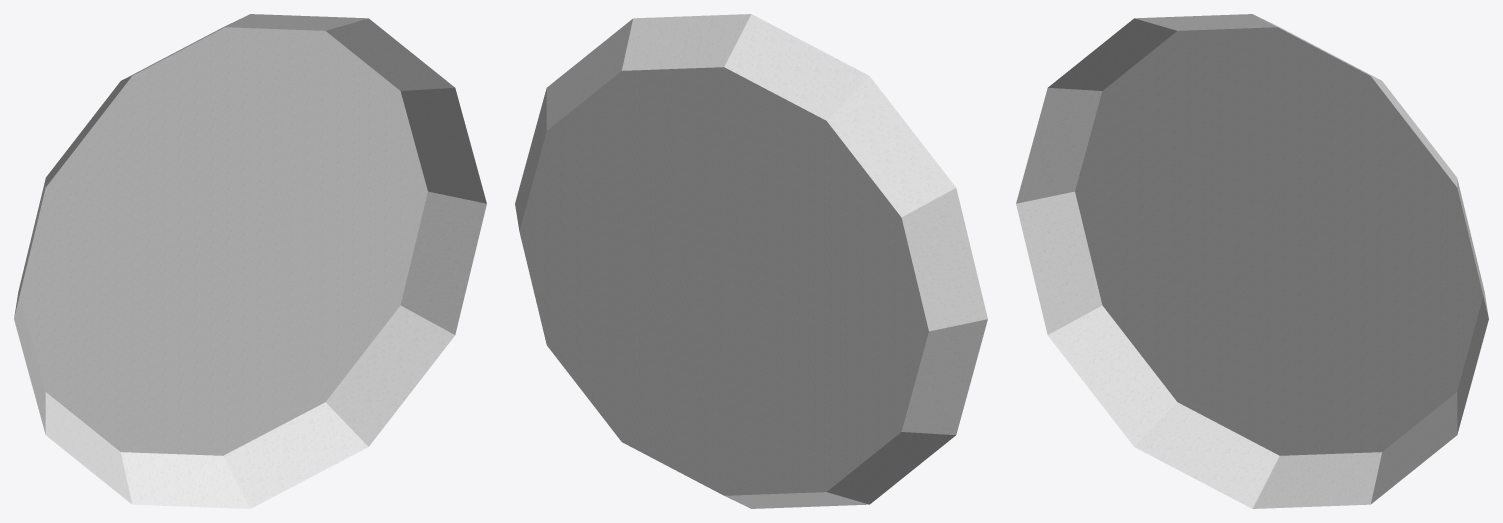
File: land_w_snow.obj
The picture shows the model from 3 angles, left to right: view 1: azimuth 30°, elevation 25°; view 2: azimuth 150°, elevation 25°; view 3: azimuth 330°, elevation 25°; orthographic projection.
Parts seen in each view (by area): view 1: 1_-_Default; view 2: 1_-_Default; view 3: 1_-_Default.
Boxes of the visible parts, x1,y1,x2,y2 form: 1_-_Default: [14, 14, 486, 508]; 1_-_Default: [515, 14, 987, 508]; 1_-_Default: [1016, 14, 1488, 508].
Size of the model in its own units: 200 by 200 by 20.
1 material, 1 textured.
